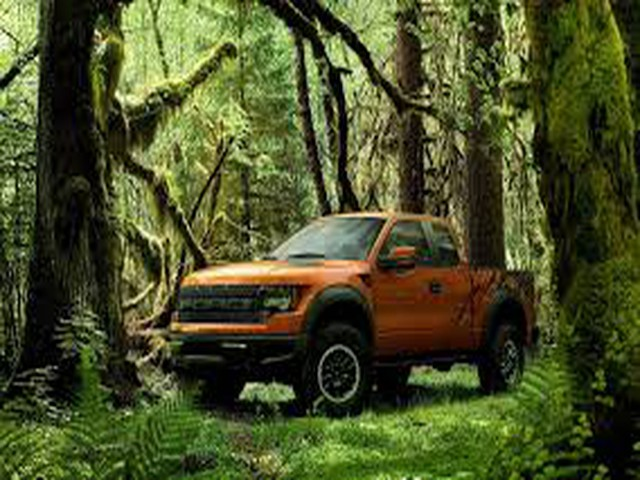Vehicle: (167, 210, 533, 410)
